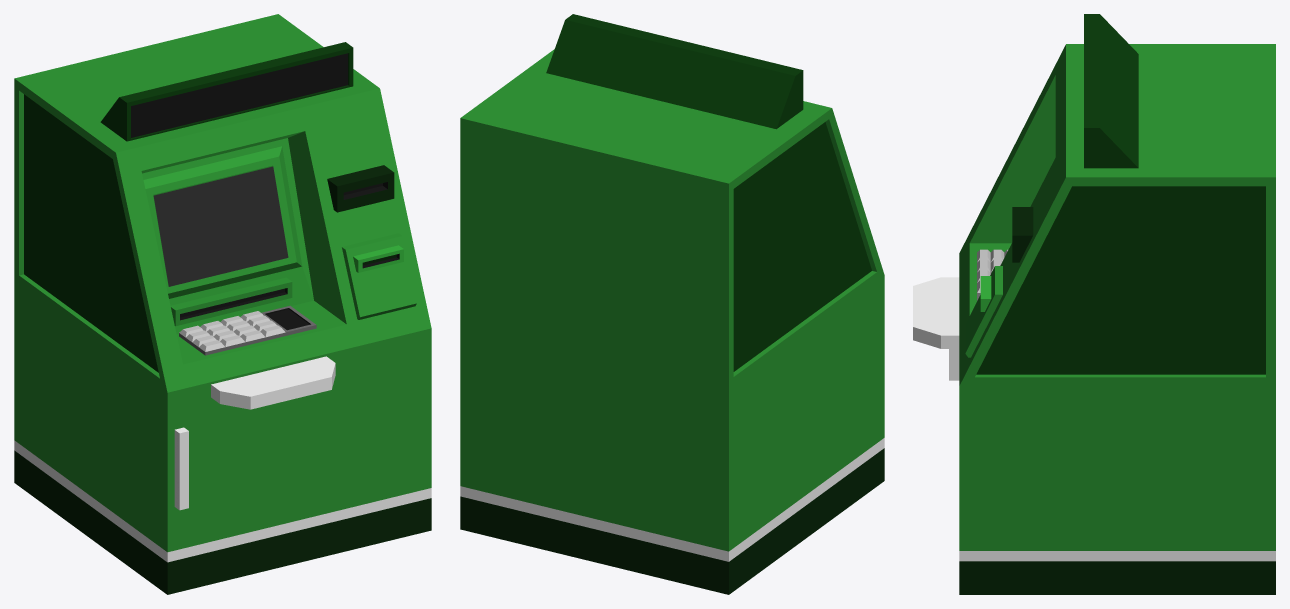
File: ATM.fbx
The picture shows the model from 3 angles, left to right: view 1: azimuth 30°, elevation 25°; view 2: azimuth 150°, elevation 25°; view 3: azimuth 270°, elevation 25°; orthographic projection. The views are drawn at different scales.
Visible parts, largest first — view 1: ATM2; view 2: ATM2; view 3: ATM2.
Boxes of the visible parts, x1,y1,x2,y2 form: ATM2: [14, 14, 431, 594]; ATM2: [460, 14, 884, 594]; ATM2: [913, 14, 1275, 594].
Size of the model in its own units: 25.11 by 40.27 by 28.92.
